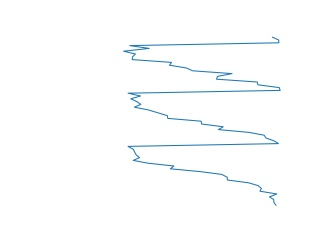distributaryMouthBar: (121, 34, 283, 209)
